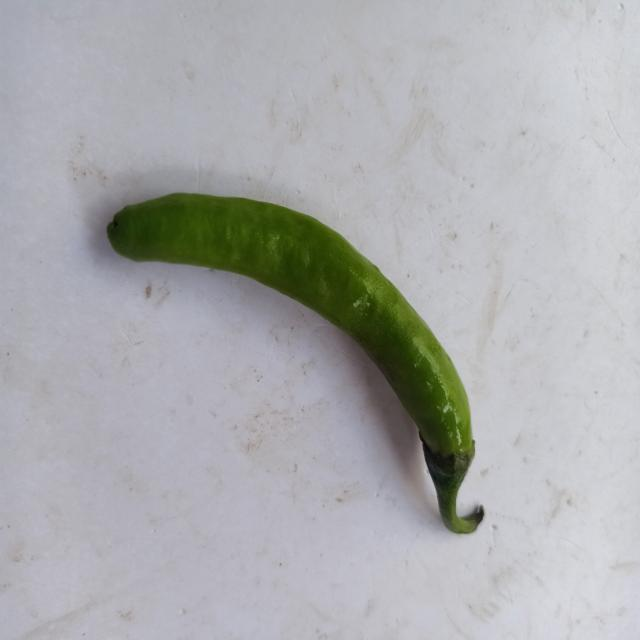Green Chilly: (106, 193, 484, 534)
